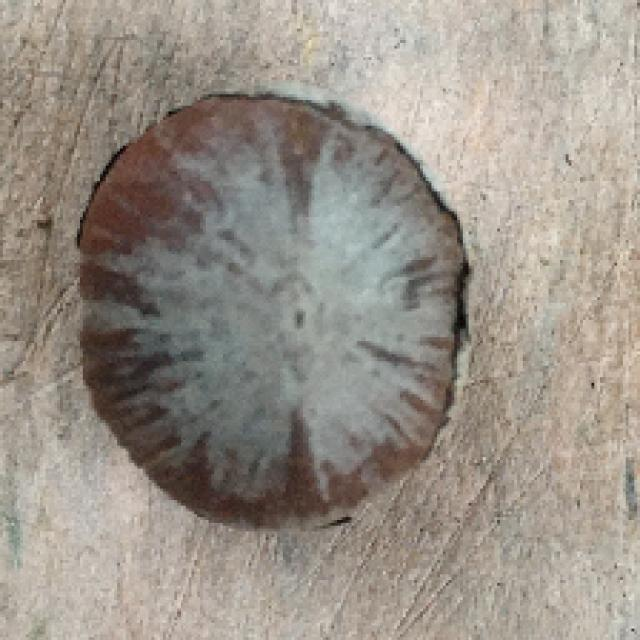damagedHazelnut: (78, 87, 473, 540)
